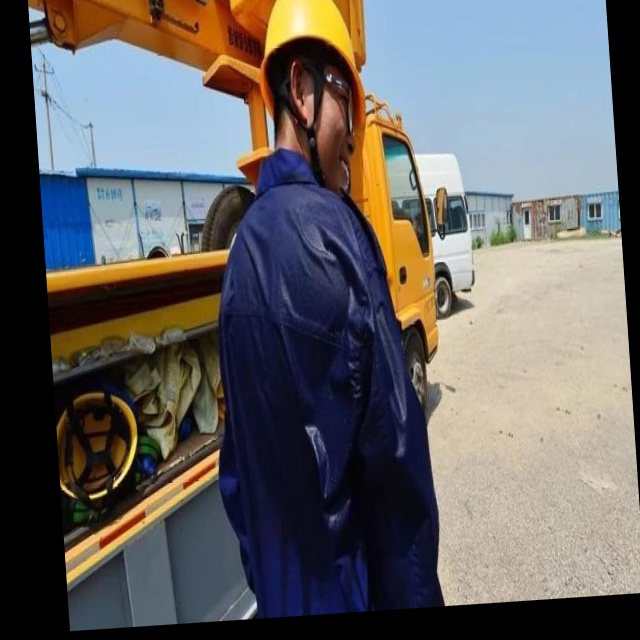Con_Casco: (255, 0, 373, 188)
Sin_Chaleco: (213, 181, 398, 586)
